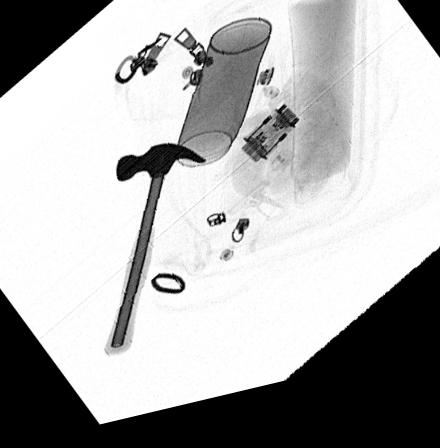Hammer: (104, 150, 209, 362)
